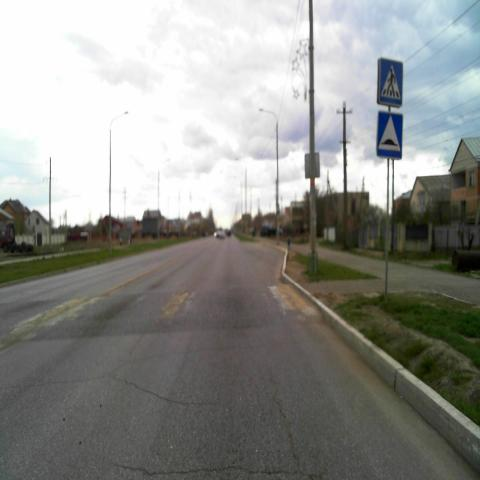5_20: (378, 111, 402, 160)
